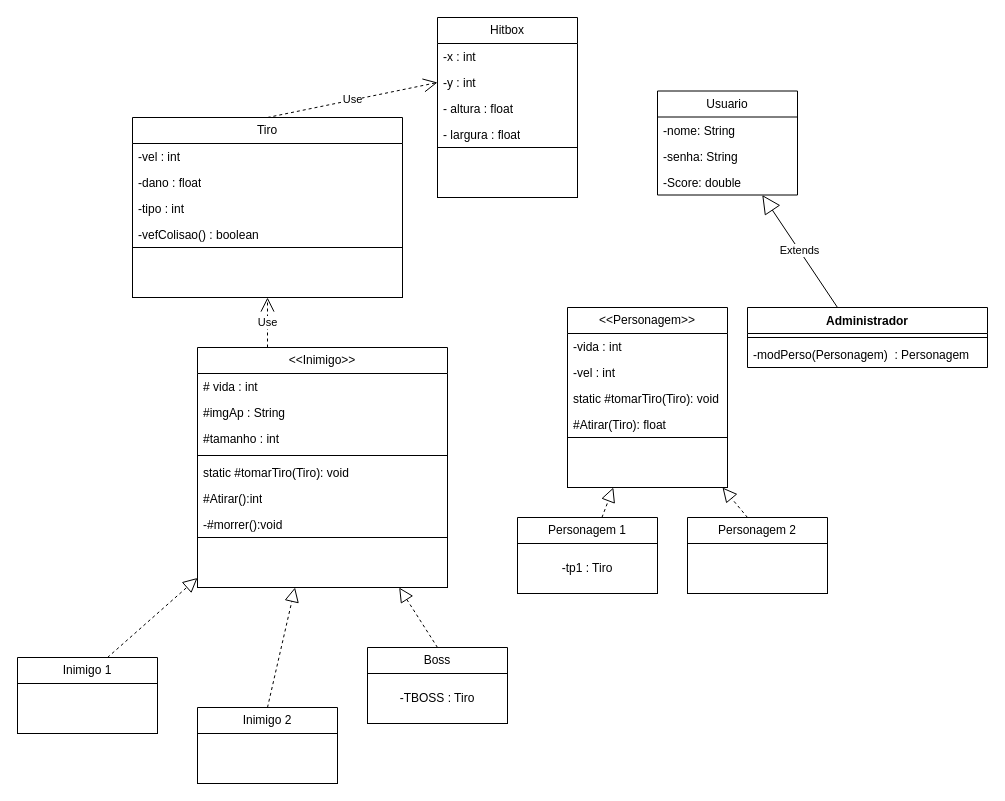
The diagram is 1005 pixels wide and 801 high, and some of its shapes have lost their labels. Each missing label, with the centre of its shape:
"#Hitbox" goes at (x=322, y=562).
"-hbx : Rectangle" goes at (x=507, y=172).
"-hbxT : Hitbox" goes at (x=267, y=272).
"-Hitbox" goes at (x=647, y=462).
"-tI1 : Tiro" goes at (x=87, y=708).
"-ti2 : Tiro" goes at (x=267, y=758).
"-tp2 : Tiro" goes at (x=757, y=568).
